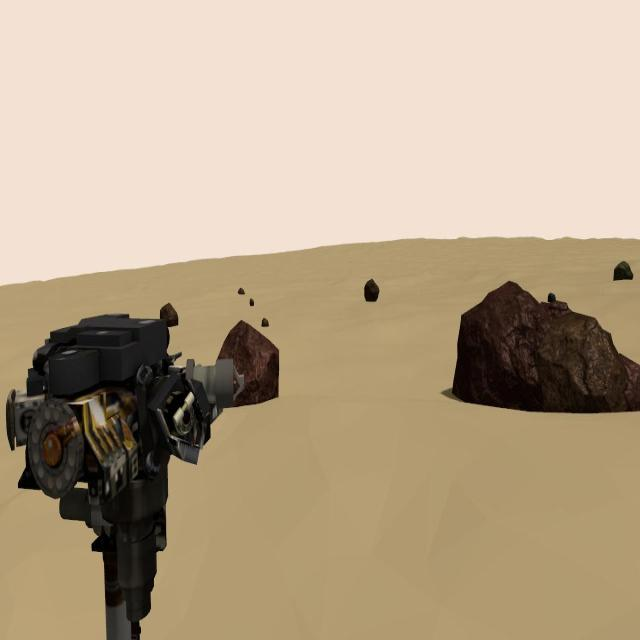rock: (452, 279, 554, 412), (539, 313, 628, 416), (217, 319, 280, 406), (615, 352, 640, 412), (540, 303, 572, 320), (160, 302, 179, 328), (614, 261, 634, 281), (364, 279, 380, 302), (548, 291, 556, 304), (262, 316, 269, 327), (237, 286, 244, 296), (250, 296, 254, 306)
